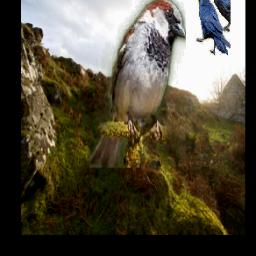Crow: (190, 0, 231, 55)
Sparrow: (89, 0, 186, 168)
